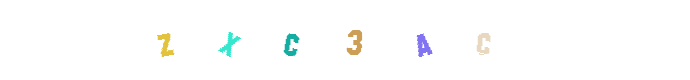3: (305, 0, 385, 80)
A: (358, 0, 438, 80)
C: (250, 0, 330, 80), (383, 0, 463, 80)
X: (228, 0, 308, 80)
Z: (193, 0, 273, 80)
